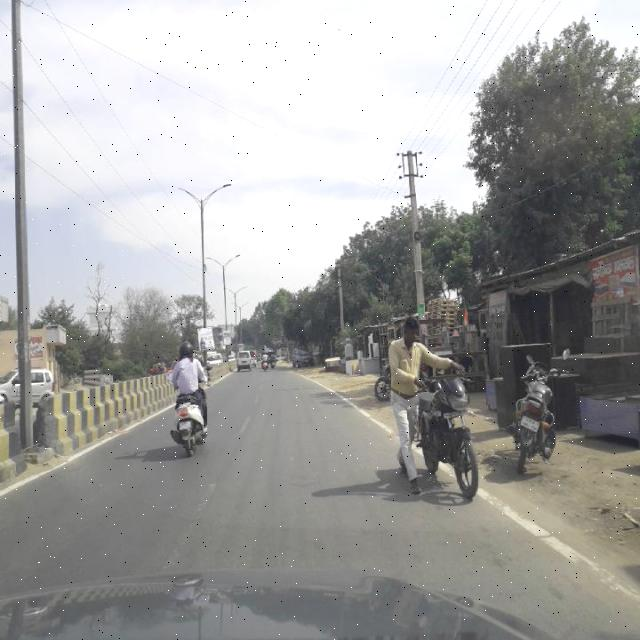D44: (158, 481, 220, 563)
